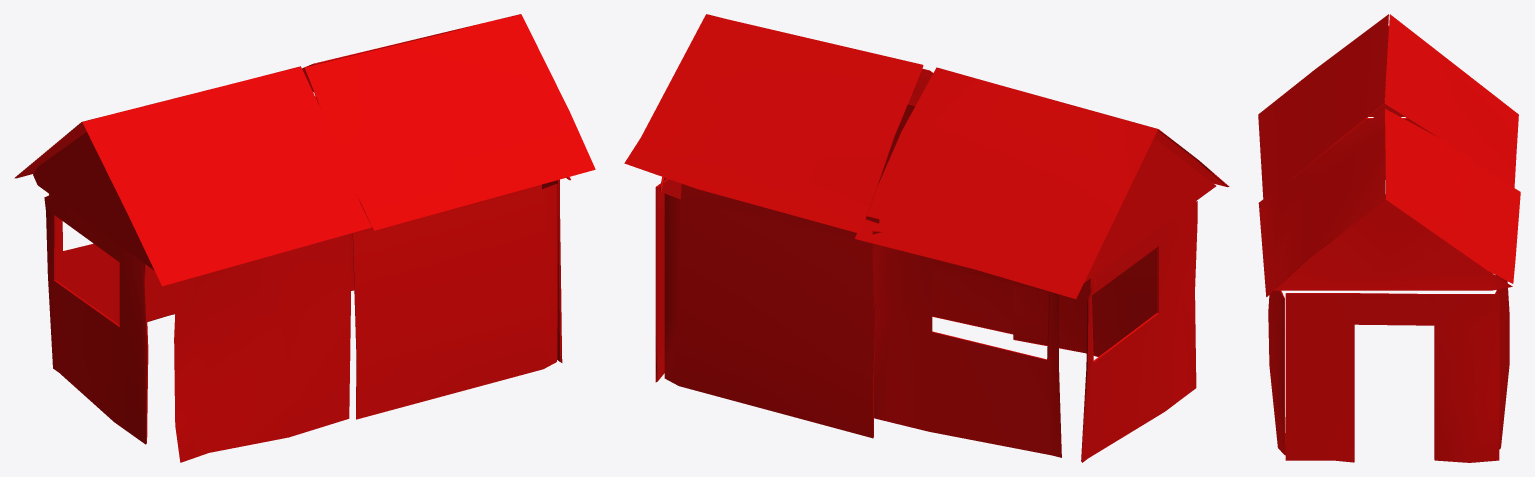
File: Hut_01_Metal.fbx
The picture shows the model from 3 angles, left to right: view 1: azimuth 30°, elevation 25°; view 2: azimuth 150°, elevation 25°; view 3: azimuth 270°, elevation 25°; orthographic projection. The views are drawn at different scales.
Parts seen in each view (by area): view 1: Hut_01_Metal; view 2: Hut_01_Metal; view 3: Hut_01_Metal.
Part boxes in pixels (<box>): Hut_01_Metal: <box>14,14,595,462</box>; Hut_01_Metal: <box>624,14,1229,462</box>; Hut_01_Metal: <box>1258,14,1520,462</box>.
Size of the model in its own units: 695 by 458 by 404.
